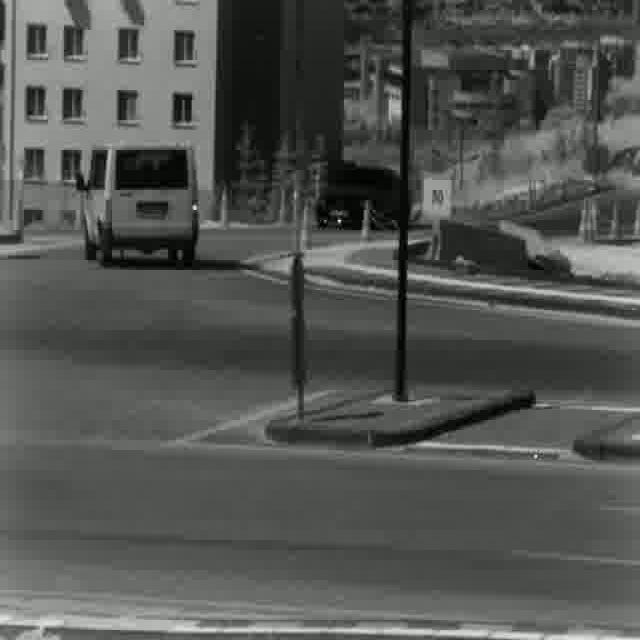Car: (78, 142, 198, 268), (312, 167, 402, 231)
